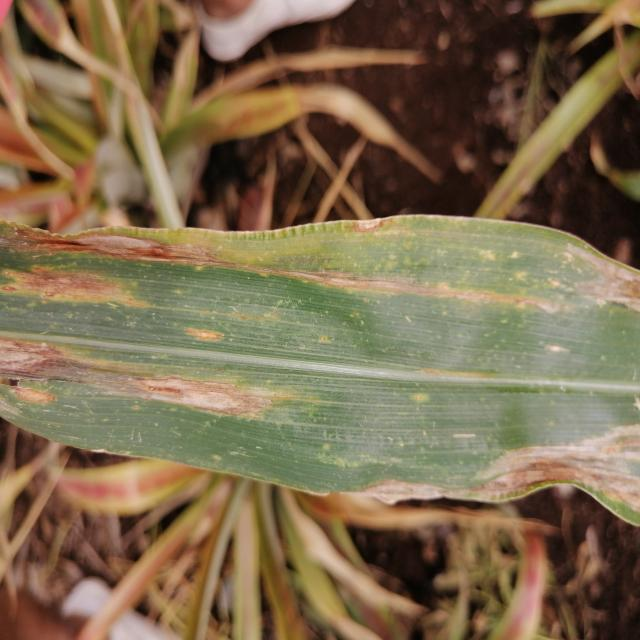Corn_Leaf_Blight: (0, 210, 640, 531)
